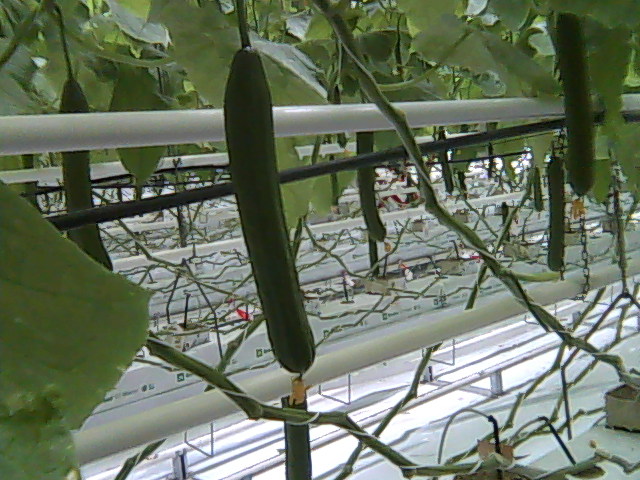concombre: (221, 35, 319, 407), (553, 6, 600, 218)
